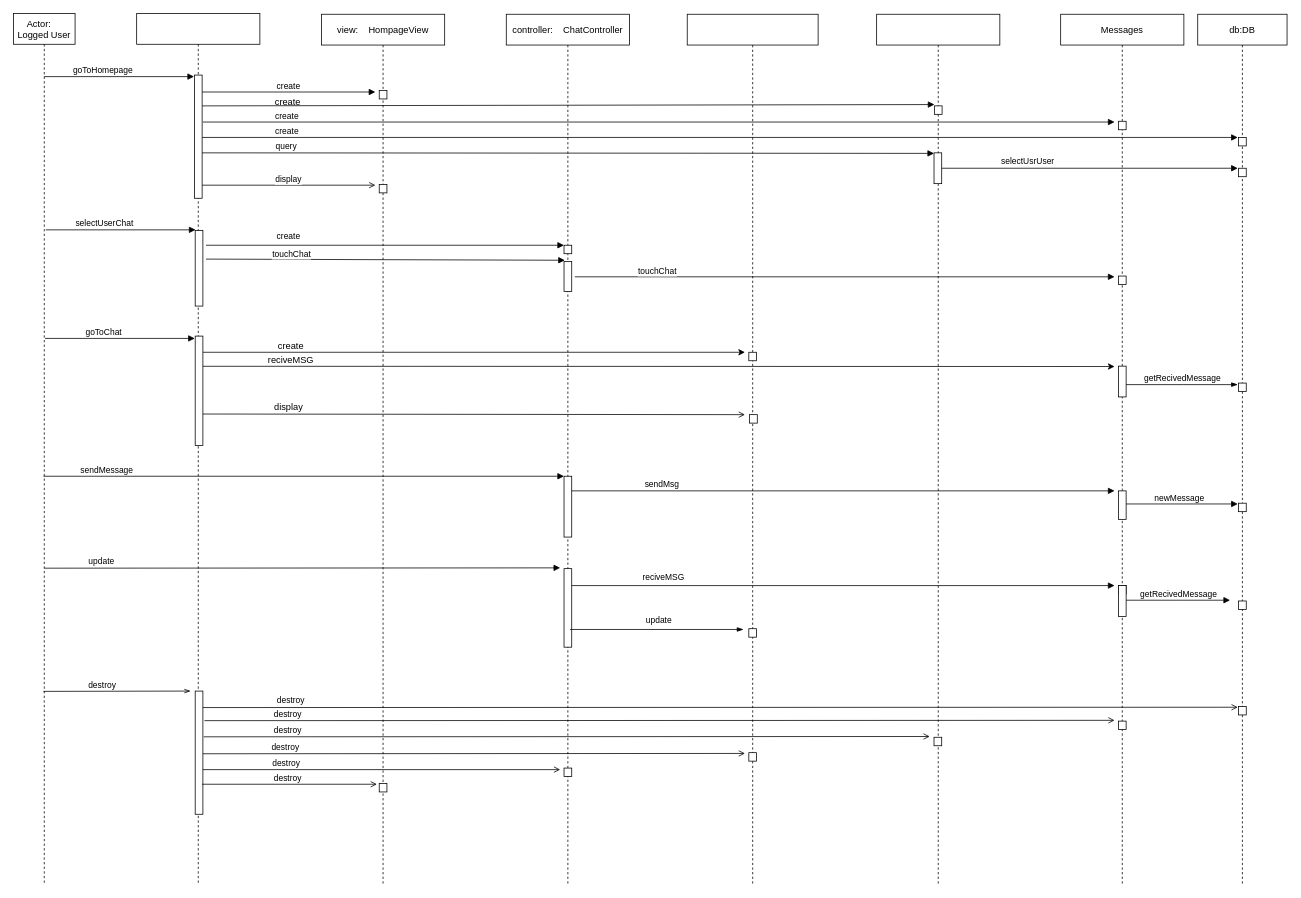
This 1301x898 diagram has some shape labels left out. The box of each missing label's shape, as (x1, y1, x2, y2) in pixels:
controller:Homepage: (136, 13, 260, 884)
entity: UsrUser: (876, 13, 1000, 884)
view: ChatView: (686, 13, 818, 884)
